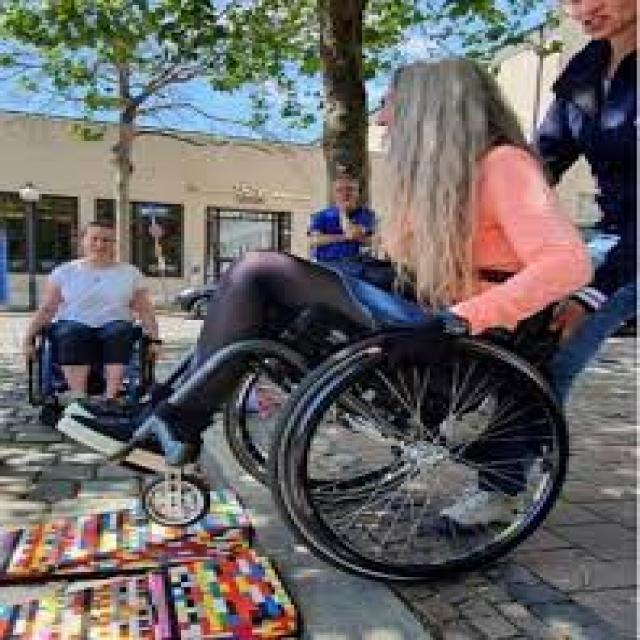wheelchairs: (78, 263, 604, 575), (21, 286, 160, 422)
